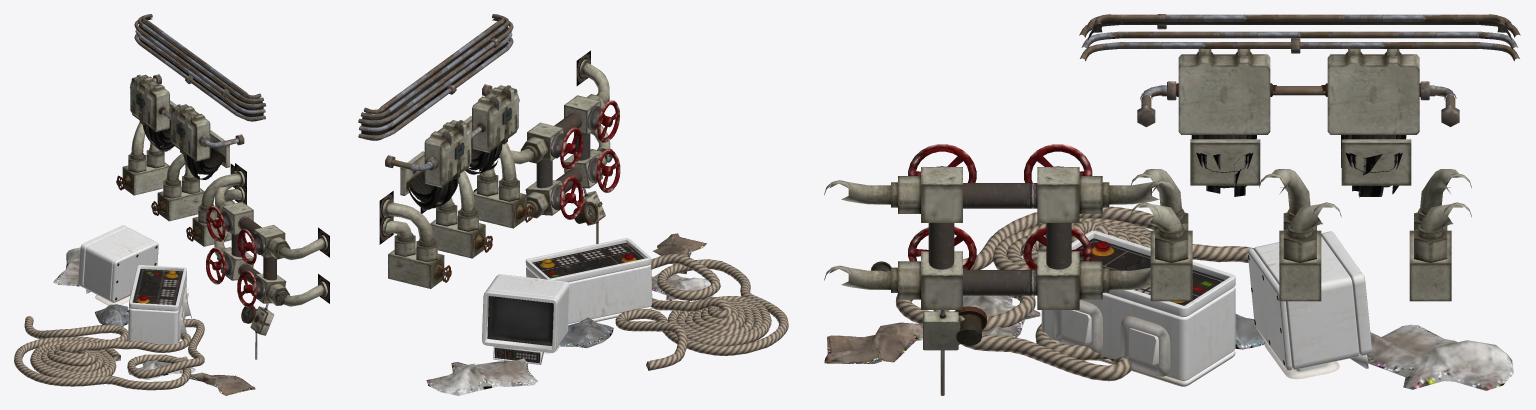
Rendered from underwaterlab_dwelling_300_edge_deep_c.glb.
3 views of the same model, side by side, from view 1: azimuth 30°, elevation 25°; view 2: azimuth 150°, elevation 25°; view 3: azimuth 270°, elevation 25° (orthographic). The views are drawn at different scales.
Parts seen in each view (by area): view 1: submarine_greeble_150x200_04_curved_LOD0, rope_docks_a, submarine_greeble_150x100_05_curved_LOD0, control_panels_attachement_b, control_panels_attachement_d, cloth_b (5), submarine_greeble_150x200_04_outercorner_01_LOD0, cloth_a (7), cloth_c (4), cloth_a (6); view 2: submarine_greeble_150x200_04_curved_LOD0, rope_docks_a, submarine_greeble_150x100_05_curved_LOD0, control_panels_attachement_b, control_panels_attachement_d, cloth_a (7), cloth_c (4), submarine_greeble_150x200_04_outercorner_02_LOD0, cloth_b (5), cloth_a (6); view 3: submarine_greeble_150x200_04_curved_LOD0, submarine_greeble_150x100_05_curved_LOD0, control_panels_attachement_b, control_panels_attachement_d, rope_docks_a, cloth_a (7), cloth_b (5), cloth_a (6), submarine_greeble_150x200_04_outercorner_01_LOD0, submarine_greeble_150x200_04_outercorner_02_LOD0, cloth_c (4).
Boxes of the visible parts, box(x1,y1,x2,y2) form: submarine_greeble_150x200_04_curved_LOD0: box(116, 21, 246, 246); rope_docks_a: box(14, 316, 204, 390); submarine_greeble_150x100_05_curved_LOD0: box(206, 163, 329, 359); control_panels_attachement_b: box(128, 265, 192, 344); control_panels_attachement_d: box(78, 225, 158, 305); cloth_b (5): box(181, 372, 255, 395); submarine_greeble_150x200_04_outercorner_01_LOD0: box(235, 91, 266, 121); cloth_a (7): box(53, 247, 80, 286); cloth_c (4): box(95, 304, 128, 326); cloth_a (6): box(128, 356, 195, 379); submarine_greeble_150x200_04_curved_LOD0: box(379, 22, 533, 288); rope_docks_a: box(615, 254, 788, 370); submarine_greeble_150x100_05_curved_LOD0: box(473, 50, 620, 243); control_panels_attachement_b: box(525, 238, 652, 325); control_panels_attachement_d: box(482, 274, 569, 364); cloth_a (7): box(426, 358, 537, 395); cloth_c (4): box(560, 317, 613, 347); submarine_greeble_150x200_04_outercorner_02_LOD0: box(358, 105, 394, 140); cloth_b (5): box(653, 233, 706, 274); cloth_a (6): box(651, 274, 714, 300); submarine_greeble_150x200_04_curved_LOD0: box(1120, 14, 1478, 301); submarine_greeble_150x100_05_curved_LOD0: box(824, 144, 1175, 395); control_panels_attachement_b: box(1041, 230, 1235, 386); control_panels_attachement_d: box(1247, 231, 1371, 379); rope_docks_a: box(896, 206, 1253, 381); cloth_a (7): box(1367, 324, 1513, 390); cloth_b (5): box(824, 322, 922, 363); cloth_a (6): box(963, 295, 1040, 337); submarine_greeble_150x200_04_outercorner_01_LOD0: box(1079, 14, 1120, 61); submarine_greeble_150x200_04_outercorner_02_LOD0: box(1479, 14, 1520, 61); cloth_c (4): box(1235, 314, 1265, 349).
Size of the model in its own units: 2.16 by 1.91 by 2.95.
6 materials, 6 textured.
